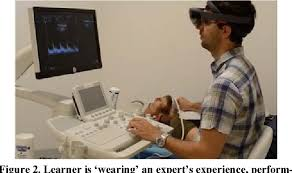hololens: (189, 7, 258, 34)
